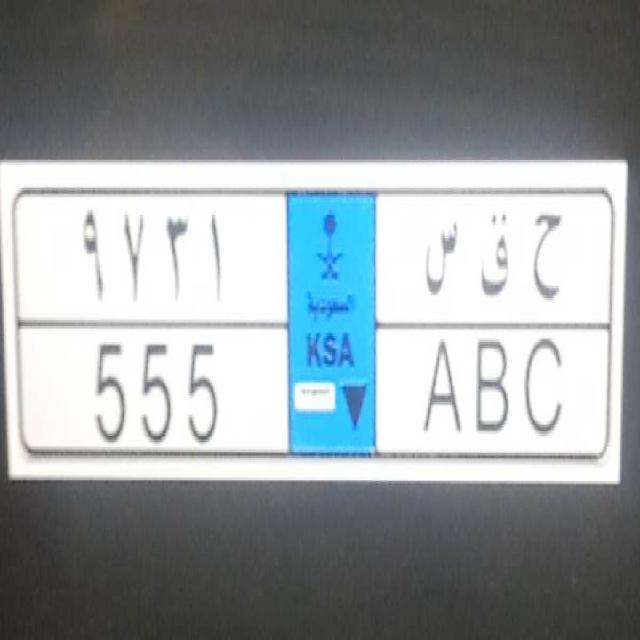license_plate: (37, 318, 576, 470)
